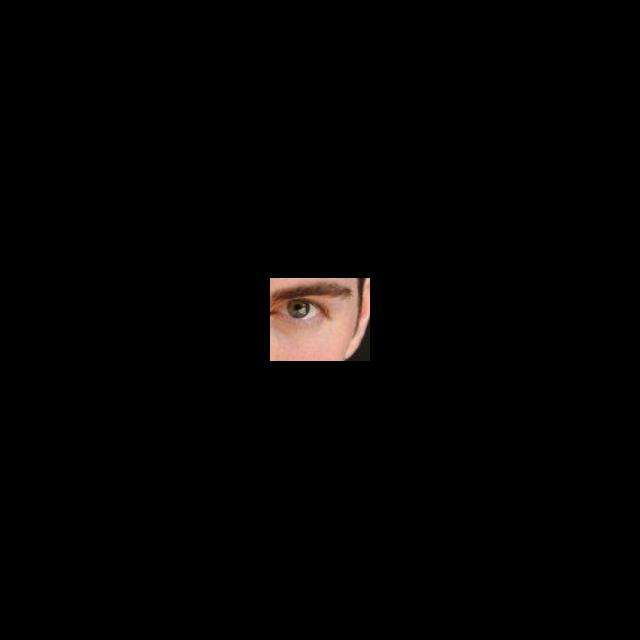eye: (279, 300, 319, 319)
iris: (288, 301, 310, 318)
